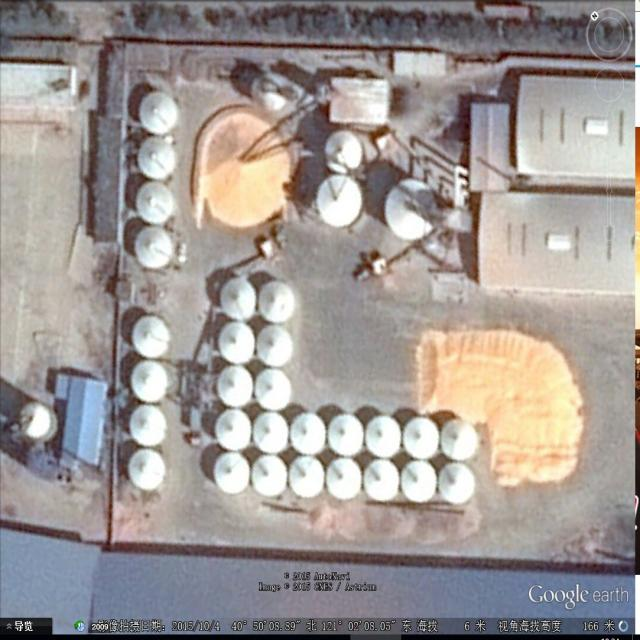oiltank: (381, 176, 445, 243), (314, 174, 369, 232), (123, 446, 173, 495), (321, 127, 370, 177), (14, 397, 64, 445), (213, 319, 261, 369), (135, 89, 181, 141), (211, 364, 259, 413), (362, 412, 407, 464), (133, 136, 181, 184), (133, 179, 179, 229), (361, 457, 407, 507), (254, 276, 299, 326), (400, 459, 445, 509), (249, 407, 292, 459), (290, 405, 331, 459), (128, 358, 174, 405), (217, 276, 262, 324), (435, 459, 480, 507), (211, 407, 254, 457), (127, 401, 172, 448), (128, 311, 172, 359), (439, 415, 483, 463), (327, 407, 366, 461), (255, 322, 297, 372), (324, 455, 366, 505), (404, 412, 446, 462), (213, 448, 254, 499), (254, 366, 296, 415), (248, 451, 290, 500), (132, 226, 178, 270), (286, 455, 330, 501)
